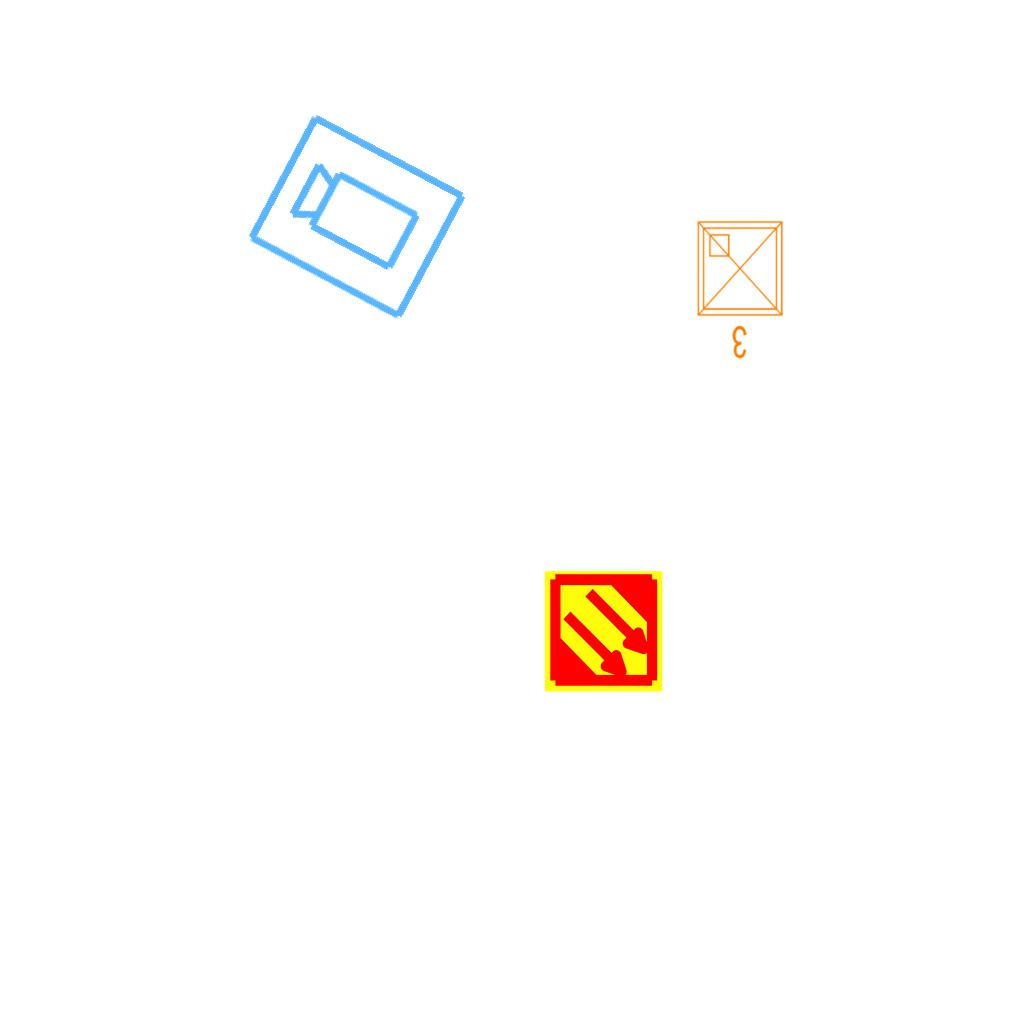ASR_Ansaugrauchmelder: (541, 569, 666, 694)
Einbaudownlights_LED_Konferenzraeume: (690, 214, 794, 364)
KFO_Kamera_mit_Festobjektiv: (241, 105, 475, 327)
